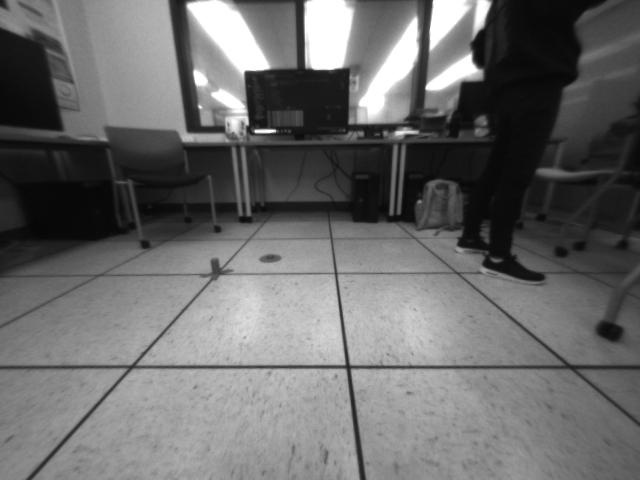X: (198, 258, 234, 280)
